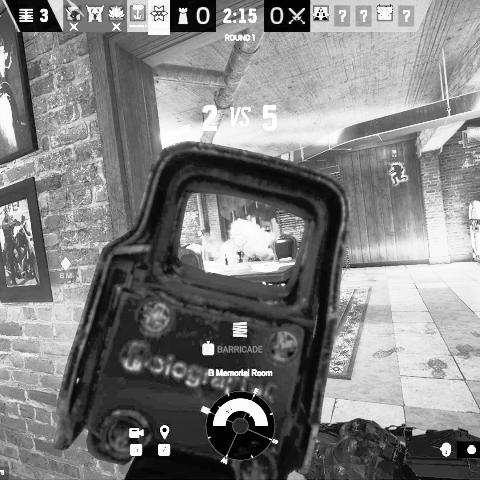Friend_label: (384, 149, 406, 166)
